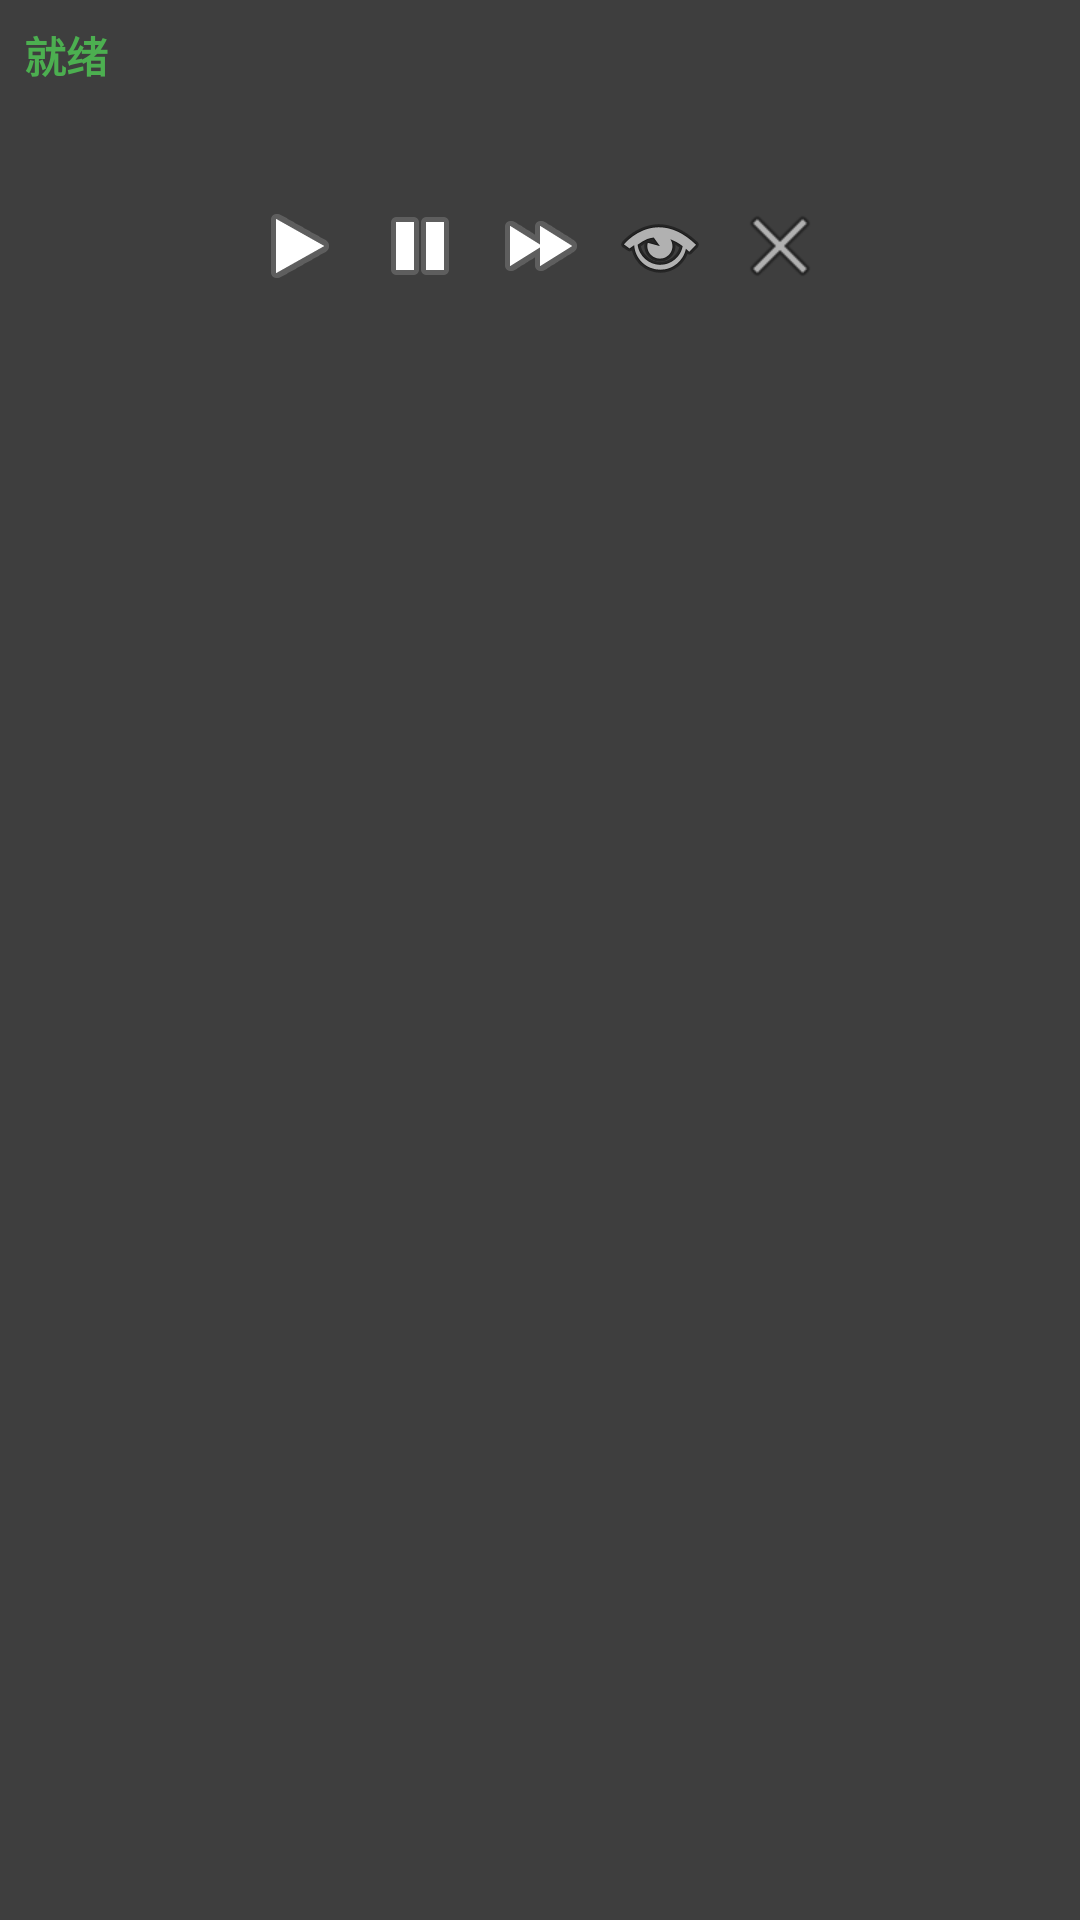

Screen size 1080×1920. Icon name, then its box in pixels as (x1, y1, x2, y2):
关闭: (753, 218, 807, 274)
播放: (271, 214, 329, 278)
暂停: (391, 217, 449, 275)
